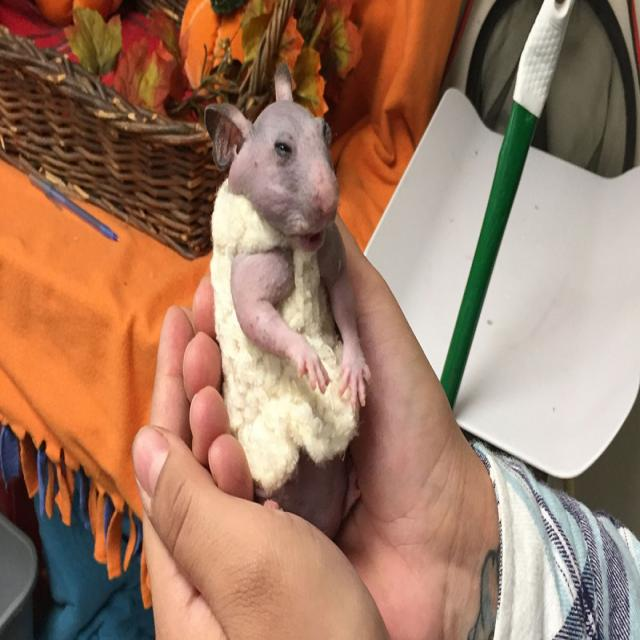hamster: (210, 62, 372, 500)
